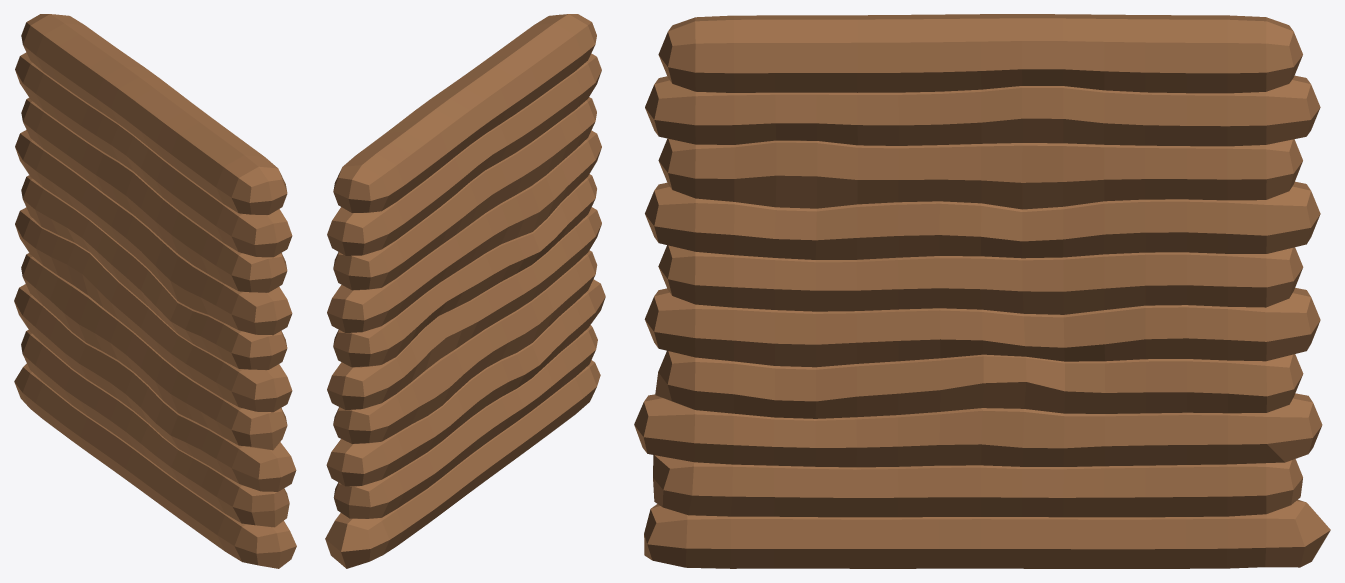
Rendered from woodenWall1.fbx.
3 views of the same model, side by side, from view 1: azimuth 30°, elevation 25°; view 2: azimuth 150°, elevation 25°; view 3: azimuth 270°, elevation 25° (orthographic). The views are drawn at different scales.
Parts seen in each view (by area): view 1: Plane.003; view 2: Plane.003; view 3: Plane.003.
Part boxes in pixels (x1,y1,x2,y2): Plane.003: (14, 14, 296, 568); Plane.003: (325, 14, 605, 568); Plane.003: (634, 14, 1330, 568).
Bounding box in the file's own units: 47.53 × 308 × 355.
